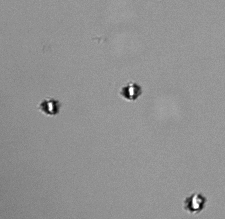Living Cell: (183, 191, 208, 212), (121, 81, 143, 101), (40, 97, 60, 116)
